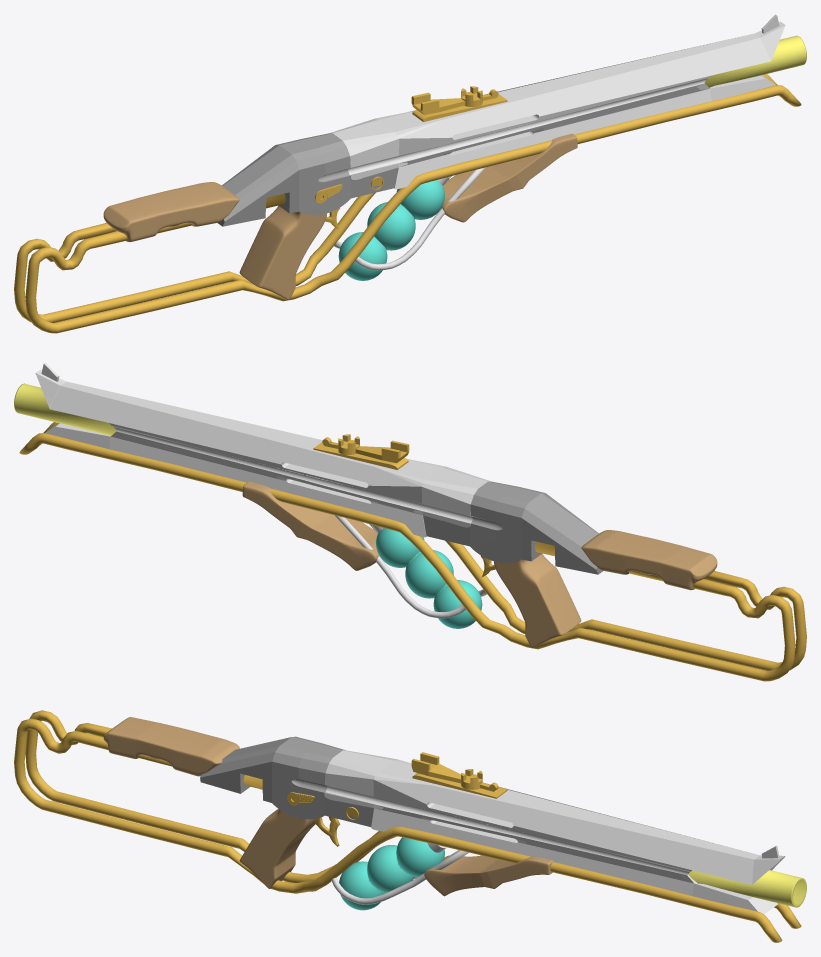
Rendered from automatic_rifle_v5_no_armature2.fbx.
3 views of the same model, one above another, from view 1: azimuth 30°, elevation 25°; view 2: azimuth 150°, elevation 25°; view 3: azimuth 330°, elevation 25° (orthographic).
Visible parts, largest first — view 1: Front End.007, Stock.003, Back End, Wood Stock, Wood Part 3, Wood Part 2, Sphere, Barrel, Cylinder, Sight Part 3, Sight Part 1; view 2: Front End.007, Stock.003, Back End, Wood Stock, Wood Part 3, Wood Part 2, Sphere, Barrel, Cylinder, Sight Part 3, Sight Part 1; view 3: Front End.007, Stock.003, Back End, Wood Stock, Sphere, Wood Part 3, Wood Part 2, Barrel, Cylinder, Sight Part 3, Sight Part 1.
Part boxes in pixels (box(x1,y1,x2,y2)): Front End.007: box(329, 14, 785, 189); Stock.003: box(14, 74, 801, 333); Back End: box(217, 133, 398, 226); Wood Stock: box(103, 182, 239, 242); Wood Part 3: box(239, 205, 326, 300); Wood Part 2: box(441, 133, 577, 222); Sphere: box(338, 180, 444, 280); Barrel: box(704, 35, 806, 87); Cylinder: box(334, 167, 485, 270); Sight Part 3: box(411, 89, 498, 115); Sight Part 1: box(412, 94, 507, 121); Front End.007: box(35, 362, 491, 537); Stock.003: box(19, 422, 806, 681); Back End: box(423, 481, 603, 574); Wood Stock: box(581, 530, 717, 590); Wood Part 3: box(494, 553, 581, 648); Wood Part 2: box(242, 481, 379, 570); Sphere: box(376, 528, 482, 628); Barrel: box(14, 383, 116, 435); Cylinder: box(335, 515, 486, 618); Sight Part 3: box(322, 437, 409, 463); Sight Part 1: box(313, 442, 408, 469); Front End.007: box(324, 750, 785, 914); Stock.003: box(14, 710, 801, 942); Back End: box(200, 736, 373, 826); Wood Stock: box(103, 717, 239, 776); Sphere: box(339, 837, 444, 910); Wood Part 3: box(239, 809, 315, 888); Wood Part 2: box(424, 855, 553, 896); Barrel: box(688, 870, 806, 907); Cylinder: box(331, 850, 468, 904); Sight Part 3: box(411, 752, 498, 791); Sight Part 1: box(412, 773, 507, 798).
Size of the model in its own units: 473 by 95.9 by 35.54.
